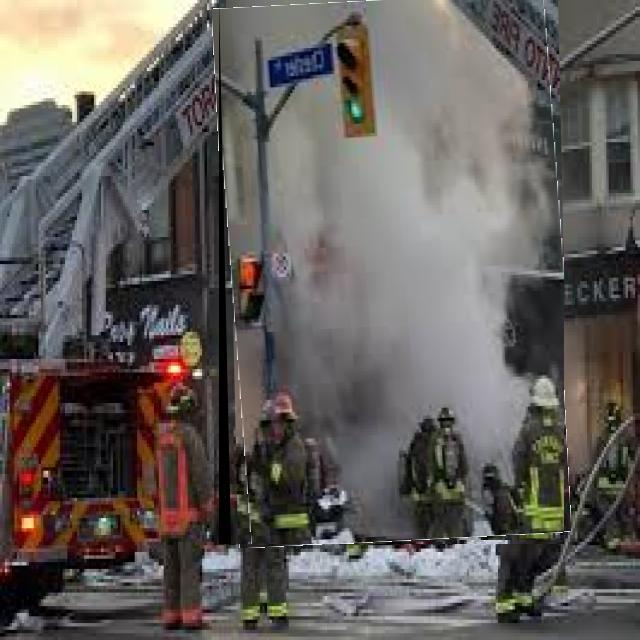smoke: (372, 6, 548, 267), (270, 140, 376, 393), (374, 268, 531, 412), (322, 406, 414, 541)
